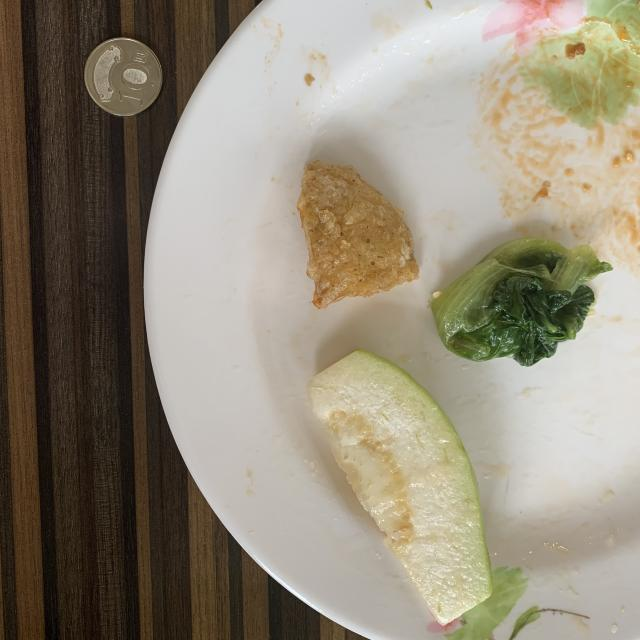coin: (85, 38, 162, 116)
fried potato: (298, 161, 419, 309)
guava -sliced-: (308, 350, 492, 625)
mustard greens: (430, 238, 612, 366)
